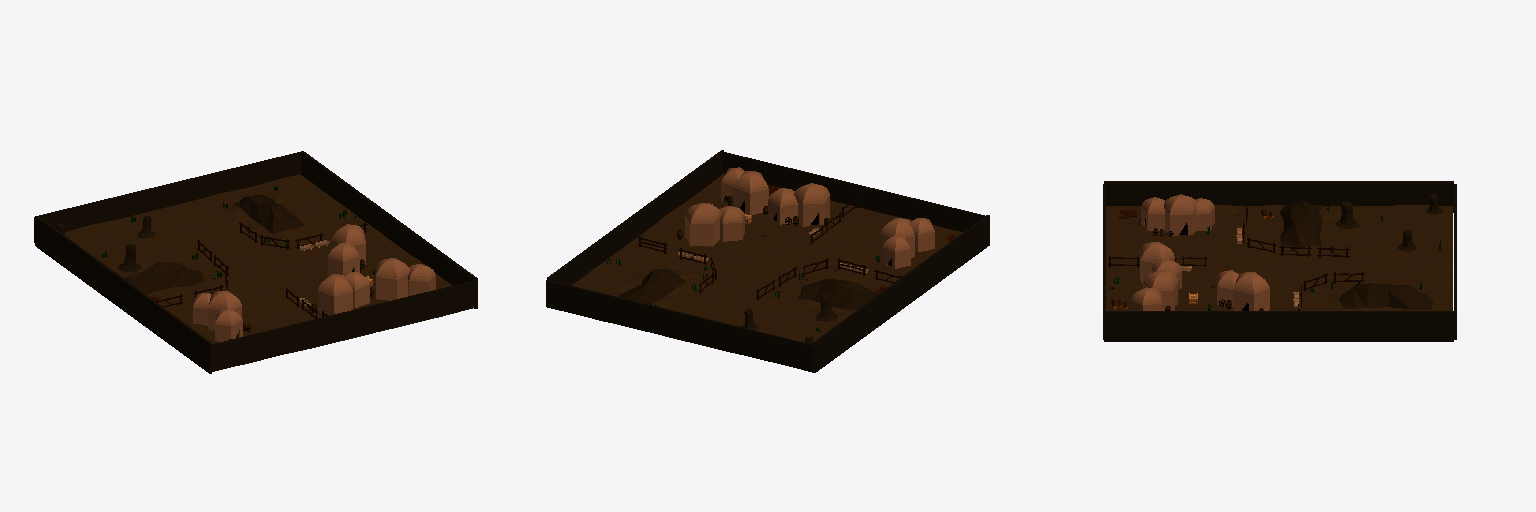
Rendered from Haran.obj.
3 views of the same model, side by side, from view 1: azimuth 30°, elevation 25°; view 2: azimuth 150°, elevation 25°; view 3: azimuth 270°, elevation 25° (orthographic).
Parts seen in each view (by area): view 1: Plane_Plane.001, Cube.030_Cube.037, Cube.011_Cube.014, Cube.009_Cube.013, Cube.010_Cube.012, Sphere.003_Sphere.002, Sphere.008_Sphere.005, Sphere.004_Sphere.007, Sphere.005_Sphere.004, Sphere.002_Sphere.001, Sphere_Sphere.000, Sphere.006_Sphere.008 (+1 smaller); view 2: Plane_Plane.001, Cube.009_Cube.013, Cube.011_Cube.014, Cube.030_Cube.037, Cube.010_Cube.012, Sphere.006_Sphere.008, Sphere.003_Sphere.002, Sphere.008_Sphere.005, Sphere.007_Sphere.003, Sphere.004_Sphere.007, Sphere.001_Sphere.006, Sphere_Sphere.000 (+1 smaller); view 3: Plane_Plane.001, Cube.010_Cube.012, Cube.011_Cube.014, Sphere.006_Sphere.008, Sphere_Sphere.000, Sphere.003_Sphere.002, Sphere.008_Sphere.005, Sphere.005_Sphere.004, Sphere.002_Sphere.001, Sphere.001_Sphere.006, Sphere.004_Sphere.007.
Boxes of the visible parts, x1,y1,x2,y2 form: Plane_Plane.001: [65, 174, 460, 365]; Cube.030_Cube.037: [211, 280, 477, 371]; Cube.011_Cube.014: [35, 216, 211, 373]; Cube.009_Cube.013: [34, 152, 300, 242]; Cube.010_Cube.012: [301, 151, 477, 308]; Sphere.003_Sphere.002: [376, 258, 409, 300]; Sphere.008_Sphere.005: [318, 274, 352, 315]; Sphere.004_Sphere.007: [328, 243, 359, 274]; Sphere.005_Sphere.004: [215, 309, 242, 341]; Sphere.002_Sphere.001: [408, 264, 435, 295]; Sphere_Sphere.000: [208, 290, 241, 330]; Sphere.006_Sphere.008: [332, 224, 365, 264]; Plane_Plane.001: [572, 173, 962, 372]; Cube.009_Cube.013: [546, 280, 813, 371]; Cube.011_Cube.014: [813, 215, 989, 372]; Cube.030_Cube.037: [723, 152, 984, 231]; Cube.010_Cube.012: [547, 150, 723, 285]; Sphere.006_Sphere.008: [685, 203, 720, 246]; Sphere.003_Sphere.002: [733, 171, 768, 214]; Sphere.008_Sphere.005: [794, 183, 829, 226]; Sphere.007_Sphere.003: [768, 188, 797, 224]; Sphere.004_Sphere.007: [719, 206, 744, 241]; Sphere.001_Sphere.006: [883, 235, 910, 268]; Sphere_Sphere.000: [881, 218, 914, 257]; Plane_Plane.001: [1106, 200, 1452, 310]; Cube.010_Cube.012: [1104, 311, 1453, 341]; Cube.011_Cube.014: [1104, 181, 1453, 212]; Sphere.006_Sphere.008: [1233, 272, 1269, 310]; Sphere_Sphere.000: [1164, 194, 1196, 235]; Sphere.003_Sphere.002: [1143, 270, 1177, 310]; Sphere.008_Sphere.005: [1140, 242, 1174, 283]; Sphere.005_Sphere.004: [1141, 197, 1164, 230]; Sphere.002_Sphere.001: [1131, 287, 1161, 310]; Sphere.001_Sphere.006: [1196, 198, 1214, 230]; Sphere.004_Sphere.007: [1217, 270, 1238, 306].
Size of the model in its own units: 189 by 28.64 by 215.